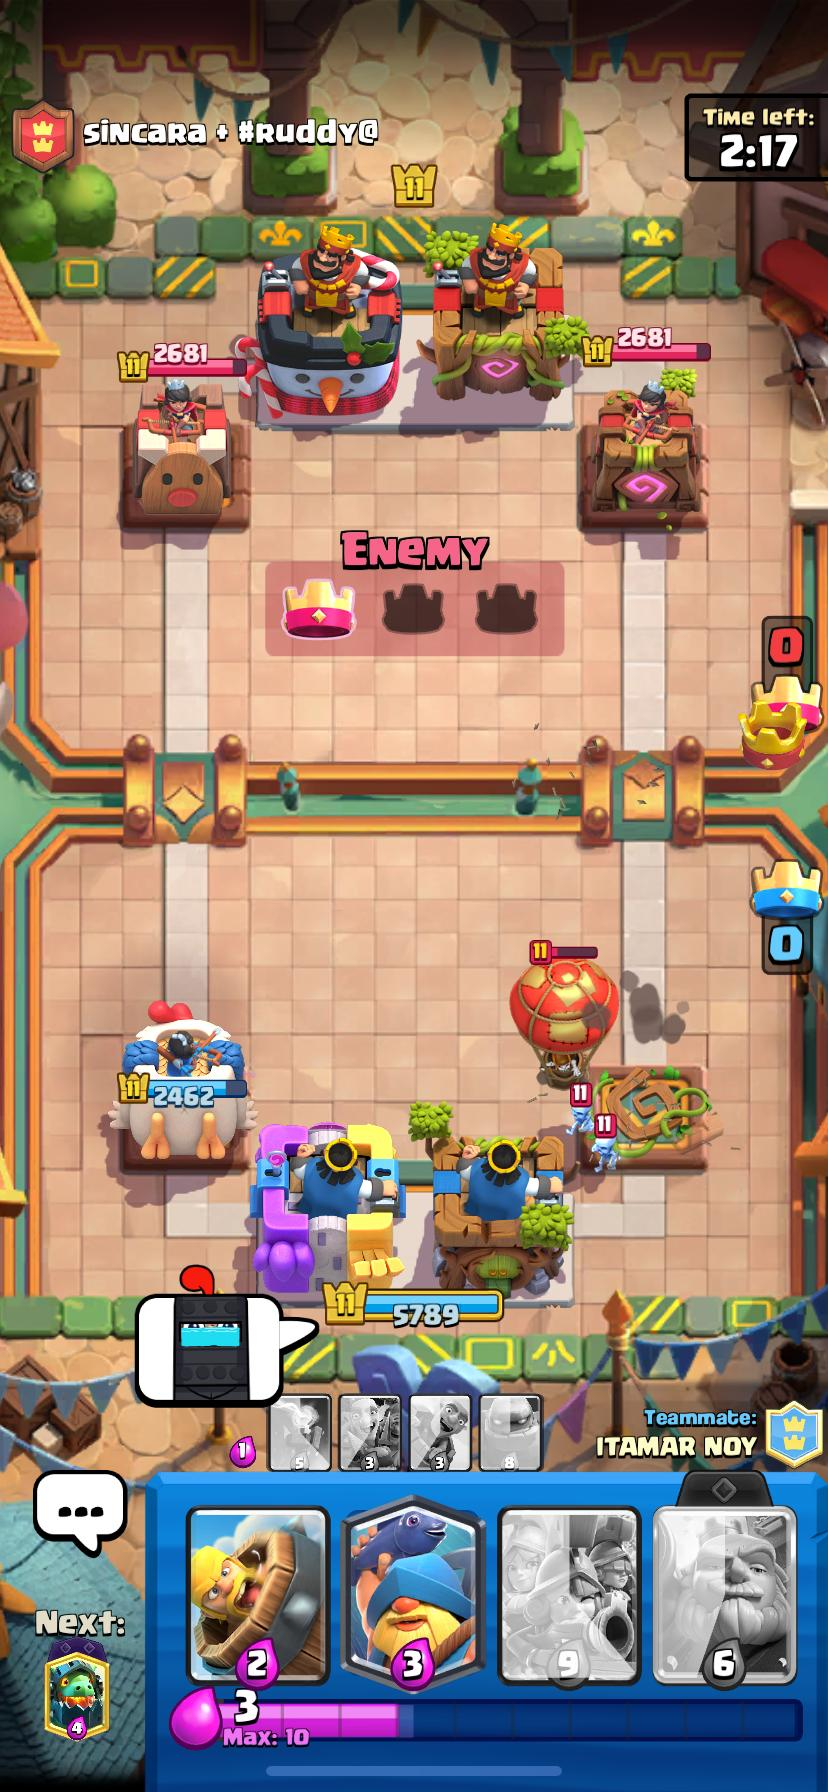EBalloon: (510, 939, 618, 1088)
EKingTower: (417, 225, 578, 401), (253, 235, 401, 423)
ELarry: (590, 1113, 619, 1173), (567, 1079, 592, 1134)
EnemyPrincessTower: (122, 383, 250, 528), (579, 386, 706, 529)
OwnKingTower: (250, 1123, 403, 1294), (433, 1136, 572, 1294)
OwnPrincessTower: (109, 1003, 255, 1162)
TowerDown: (580, 1066, 720, 1171)
